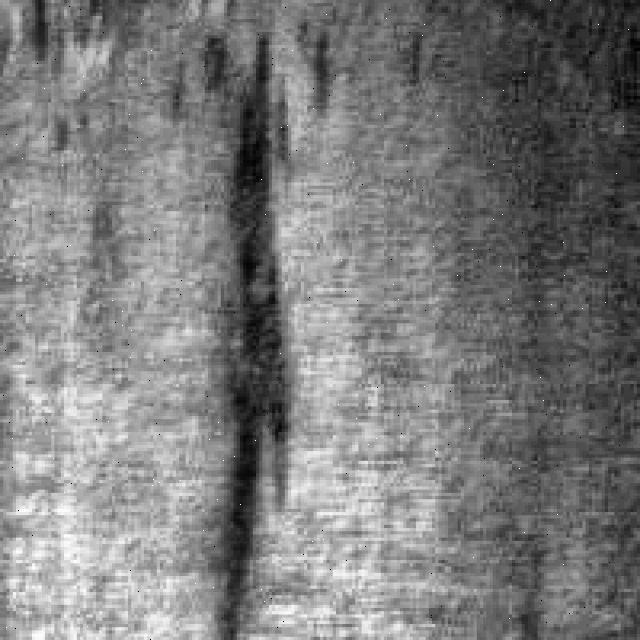Patches: (192, 13, 317, 624)
